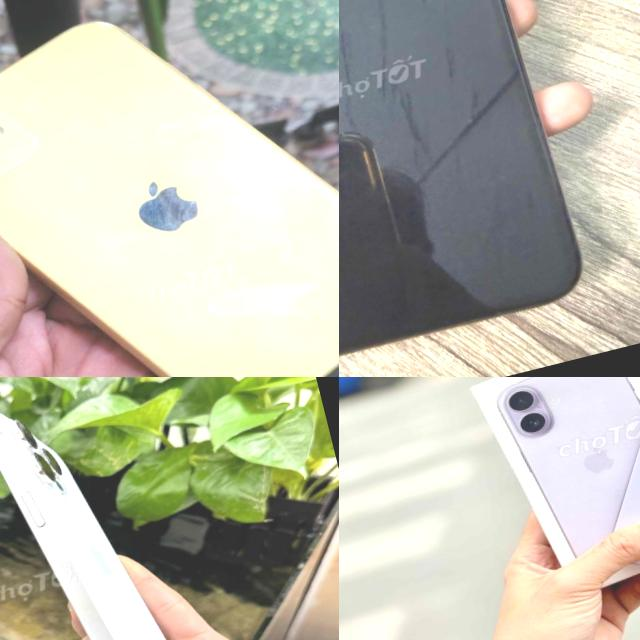gen_11: (0, 0, 339, 377)
gen_14: (0, 377, 237, 640)
gen_17: (573, 377, 640, 615)
gen_x_xs: (339, 0, 609, 377)
